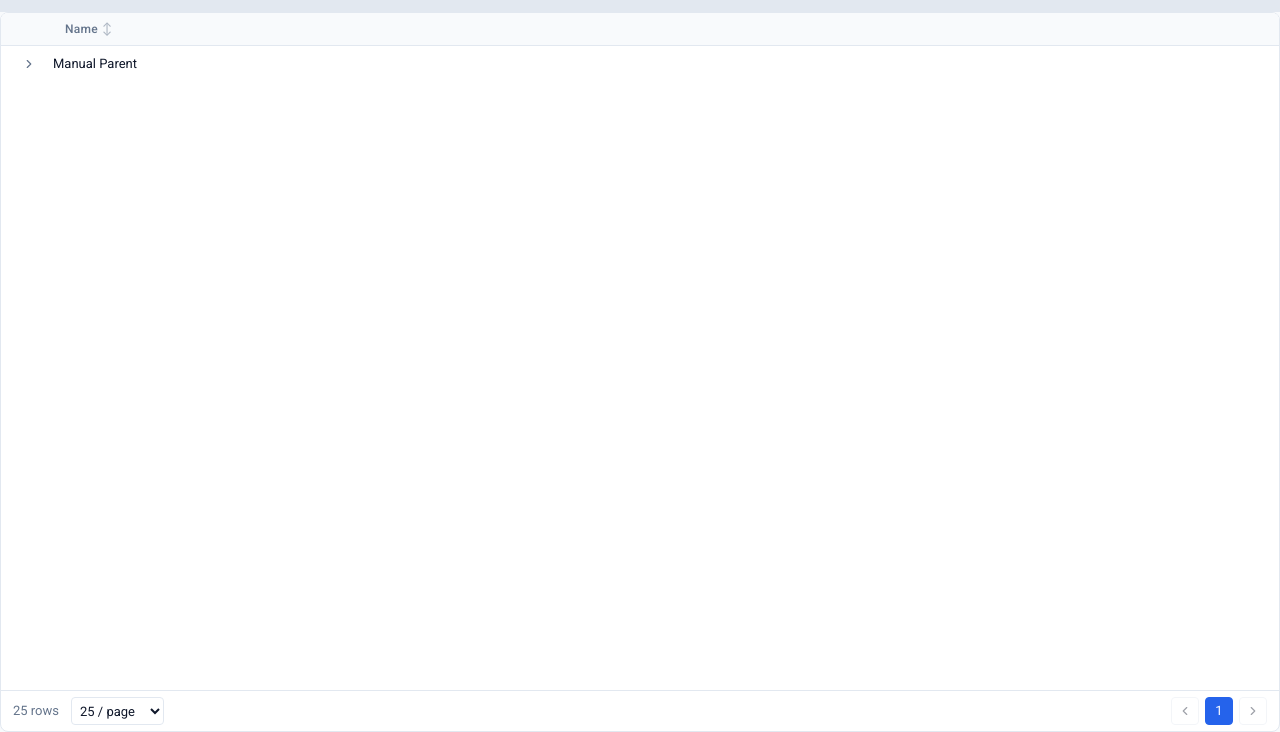
Test: DataTable contracts › tree mode with manualPagination still expands children
Click the button named "Expand".
click(29, 64)  # box 13,48 -> 45,80
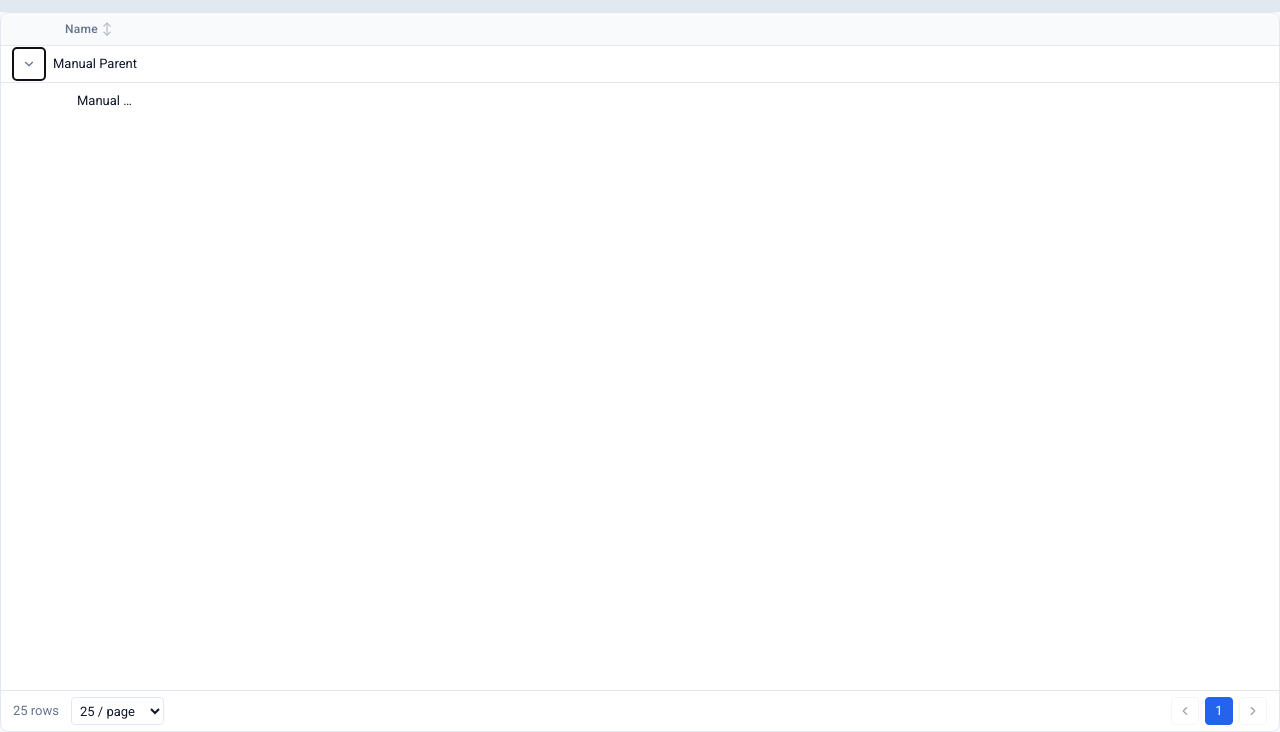
Expected: the text "Manual Child" is shown, 77,91 -> 139,111
